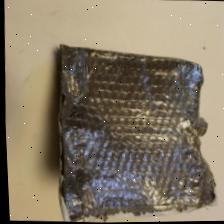plastic: (55, 45, 215, 221)
